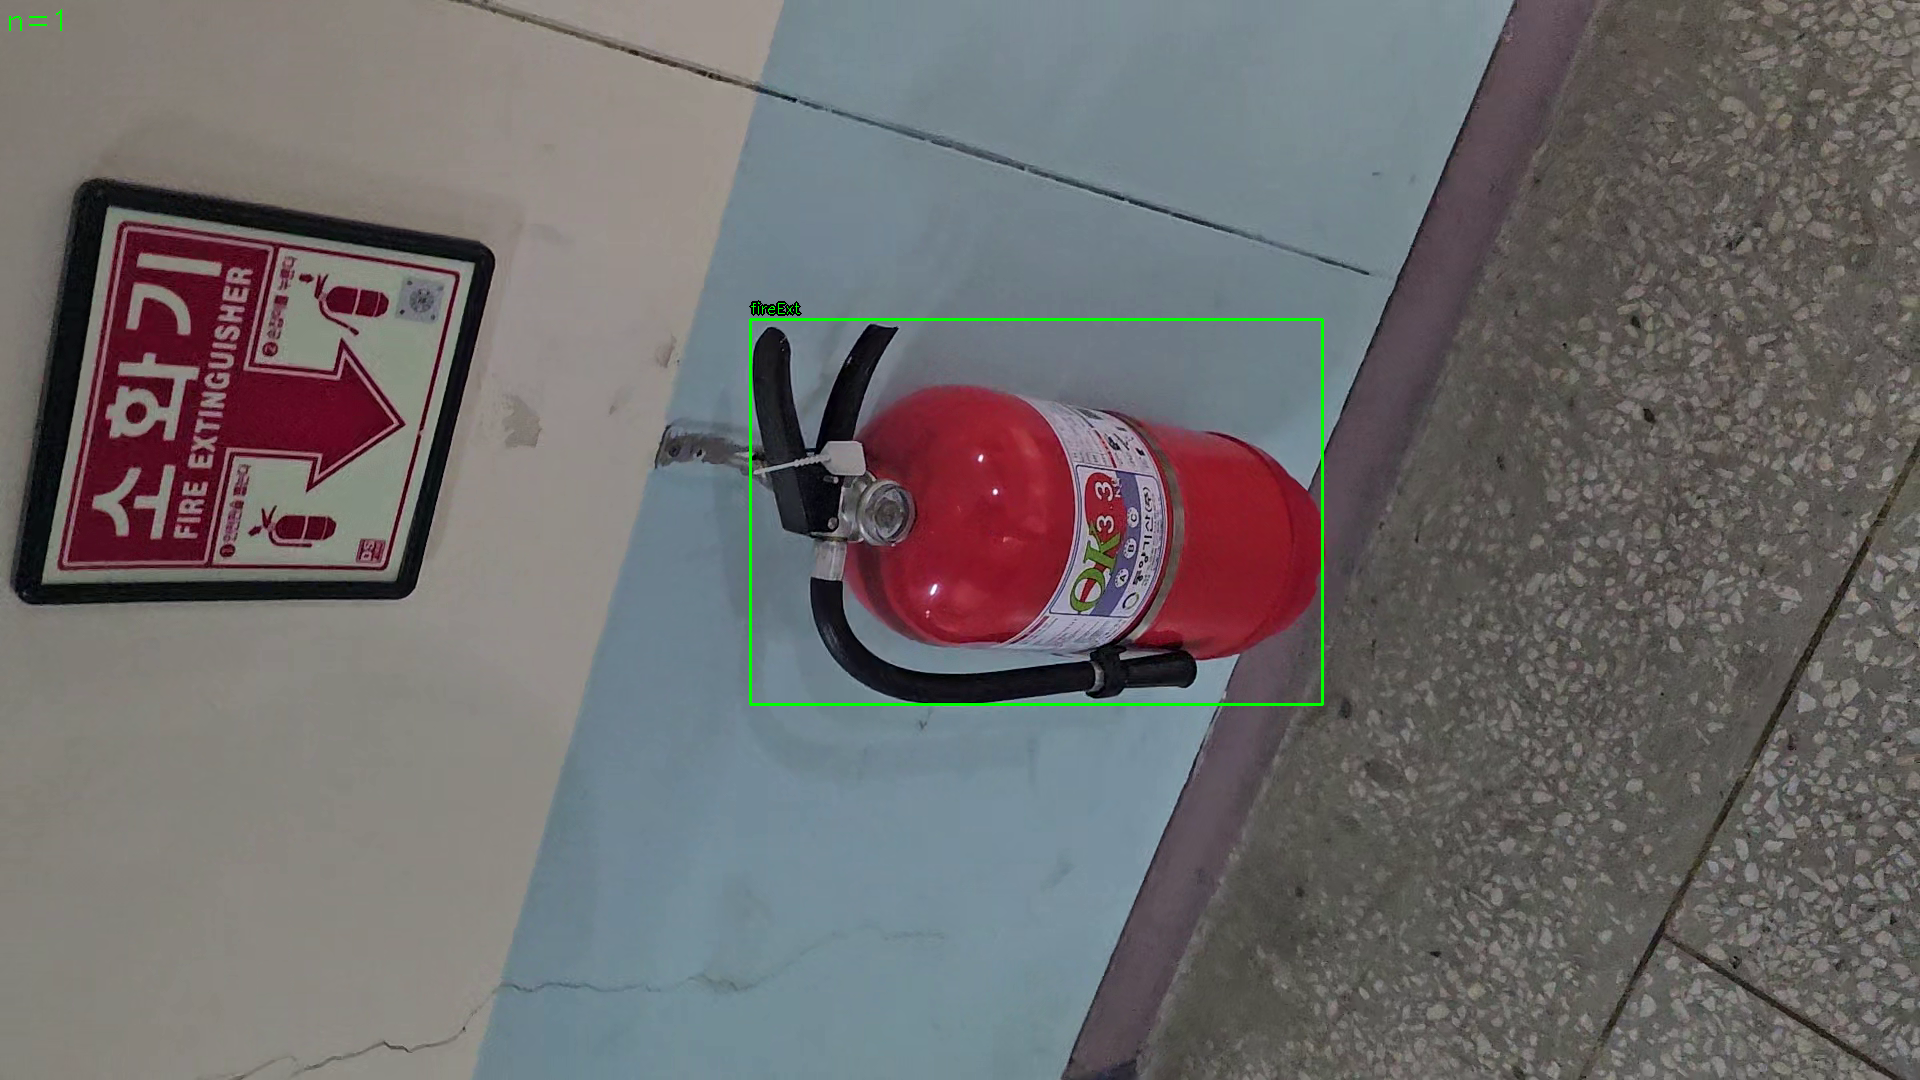lane: (750, 319, 1323, 705)
